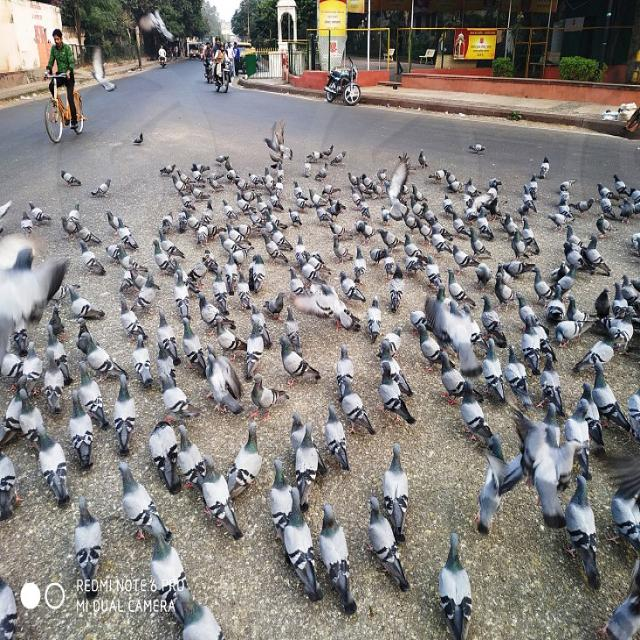bird: (371, 352, 411, 422), (156, 371, 206, 426), (457, 377, 492, 449), (78, 333, 128, 377), (278, 334, 317, 385), (249, 372, 288, 422), (438, 346, 467, 410), (211, 314, 247, 360), (66, 285, 105, 325), (115, 298, 147, 345), (336, 268, 368, 304), (533, 262, 558, 308), (148, 235, 176, 276), (586, 230, 608, 280), (490, 272, 518, 310), (78, 240, 103, 280), (450, 240, 480, 273), (417, 320, 439, 365), (257, 232, 286, 266), (114, 216, 140, 252), (328, 234, 356, 266), (215, 232, 243, 260), (561, 241, 585, 273), (71, 215, 93, 249), (265, 289, 288, 321), (469, 226, 491, 258), (53, 166, 82, 190), (28, 199, 51, 228), (288, 264, 306, 297), (450, 208, 469, 238), (220, 199, 241, 226), (90, 176, 115, 197), (534, 154, 552, 182), (368, 243, 396, 261), (550, 208, 570, 233), (611, 172, 629, 199), (575, 196, 598, 216), (308, 187, 327, 211), (464, 138, 490, 155), (286, 204, 304, 228), (333, 146, 352, 168), (169, 176, 188, 198), (155, 160, 179, 177), (291, 177, 307, 201), (416, 145, 431, 169), (129, 130, 147, 148)
